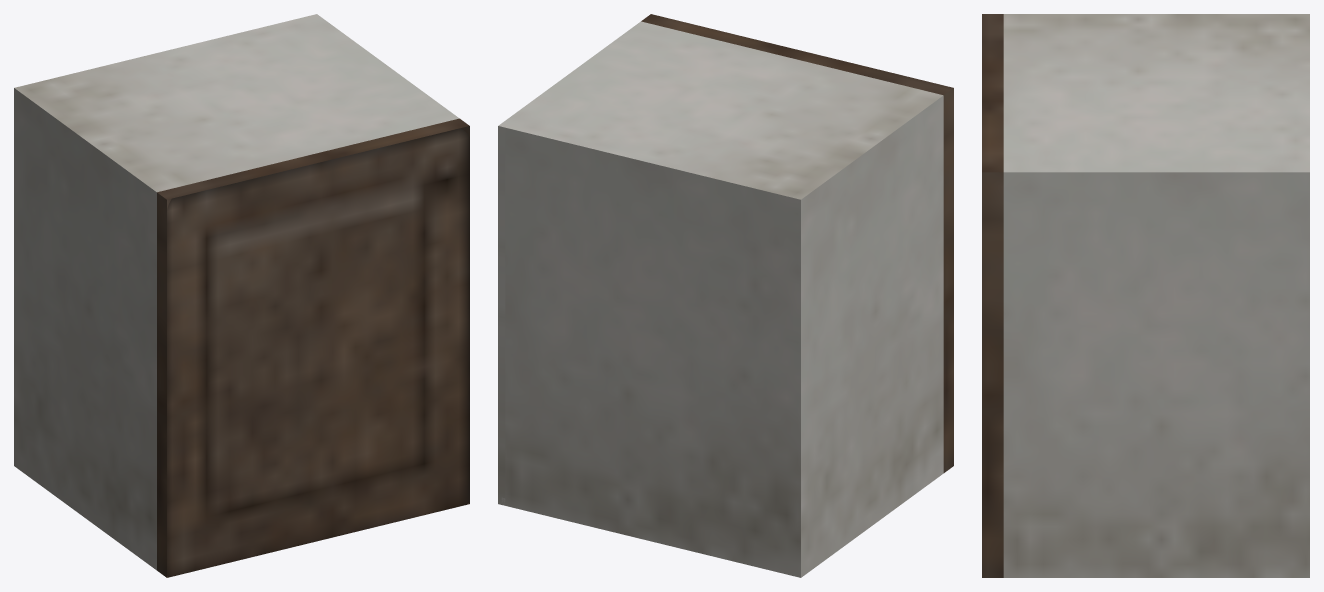
File: SM_EC_House_Kitchen_Cupboard_Static_07.fbx
The picture shows the model from 3 angles, left to right: view 1: azimuth 30°, elevation 25°; view 2: azimuth 150°, elevation 25°; view 3: azimuth 270°, elevation 25°; orthographic projection. The views are drawn at different scales.
Parts seen in each view (by area): view 1: SM_EC_House_Kitchen_Cupboard_Static_07; view 2: SM_EC_House_Kitchen_Cupboard_Static_07; view 3: SM_EC_House_Kitchen_Cupboard_Static_07.
Boxes of the visible parts, x1,y1,x2,y2 form: SM_EC_House_Kitchen_Cupboard_Static_07: (14, 14, 469, 577); SM_EC_House_Kitchen_Cupboard_Static_07: (498, 14, 953, 577); SM_EC_House_Kitchen_Cupboard_Static_07: (982, 14, 1309, 577).
Size of the model in its own units: 0.8631 by 0.7546 by 1.03.
